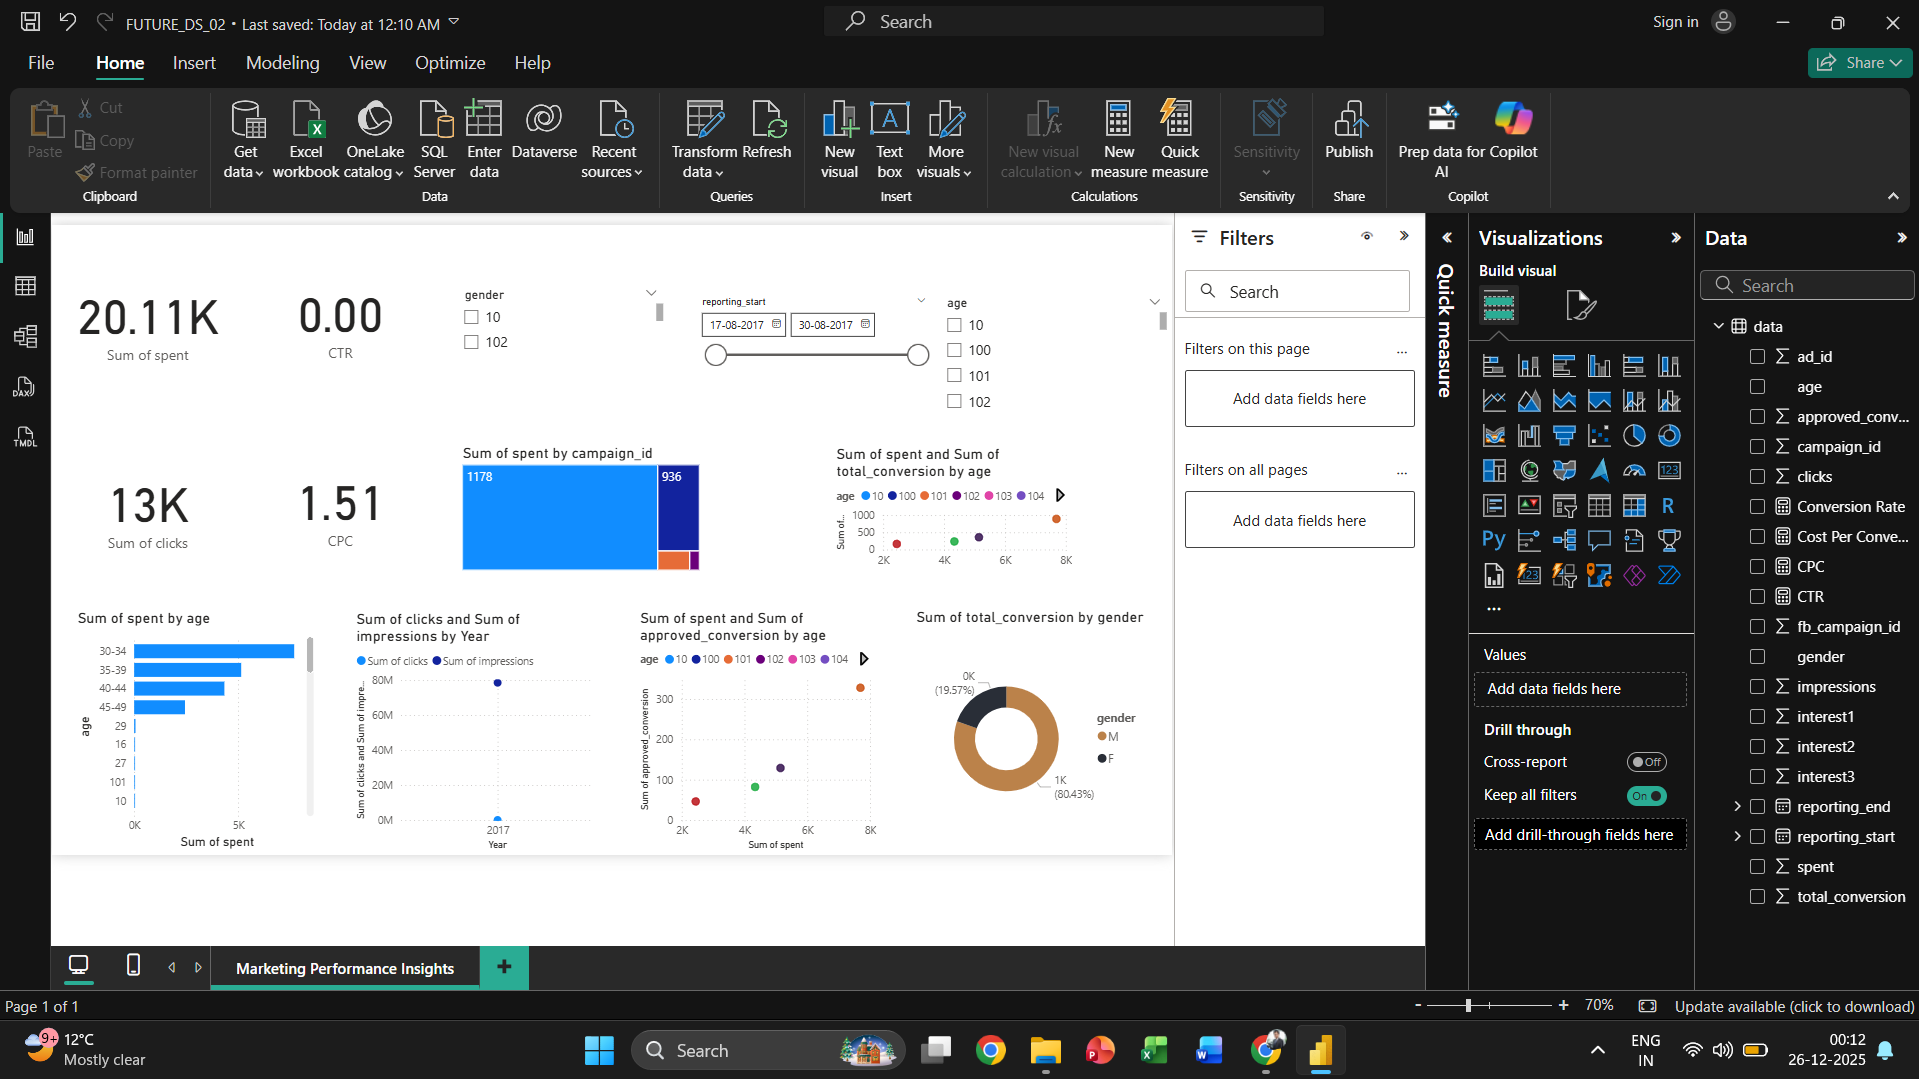

Layout of this report page (visuals, bound fields, positions):
{"tool":"powerbi","page":{"name":"Marketing Performance Insights","canvas":[1280,720],"ordinal":0},"visuals":[{"type":"card","fields":{"Values":["Sum(data.spent)"]},"box":[0,2.9,219.5,213.8],"z":0},{"type":"scatterChart","fields":{"X":["Sum(data.spent)"],"Y":["Sum(data.total_conversion)"],"Series":["data.age"]},"box":[890.9,250.9,279.4,149.7],"z":1000},{"type":"card","fields":{"Values":["data.CTR"]},"box":[219.5,0,219.5,213.8],"z":2000},{"type":"card","fields":{"Values":["data.CPC"]},"box":[219.5,213.8,219.5,216.7],"z":3000},{"type":"card","fields":{"Values":["Sum(data.clicks)"]},"box":[0,216.7,219.5,213.8],"z":4000},{"type":"clusteredBarChart","fields":{"Category":["data.age"],"Y":["Sum(data.spent)"]},"box":[24.3,438.6,280,280],"z":5000},{"type":"donutChart","fields":{"Category":["data.gender"],"Y":["Sum(data.total_conversion)"]},"box":[982.9,437.1,280,281.4],"z":6000},{"type":"lineChart","fields":{"Category":["data.reporting_start.Variation.Date Hierarchy.Year","data.reporting_start.Variation.Date Hierarchy.Quarter","data.reporting_start.Variation.Date Hierarchy.Month","data.reporting_start.Variation.Date Hierarchy.Day"],"Y":["Sum(data.clicks)","Sum(data.impressions)"]},"box":[342.9,440,281.4,280],"z":7000},{"type":"scatterChart","fields":{"X":["Sum(data.spent)"],"Y":["Sum(data.approved_conversion)"],"Series":["data.age"]},"box":[667.1,438.6,280,281.4],"z":8000},{"type":"treemap","fields":{"Values":["Sum(data.spent)"],"Group":["data.campaign_id"]},"box":[464.7,249.4,280.8,149.7],"z":9000},{"type":"slicer","fields":{"Values":["data.age"]},"box":[1010.6,75.5,269.4,149.7],"z":10000},{"type":"slicer","fields":{"Values":["data.gender"]},"box":[459,65.6,245.2,84.1],"z":11000},{"type":"slicer","fields":{"Values":["data.reporting_start"]},"box":[729.8,75.5,280.8,118.3],"z":12000}]}

Visuals, with their boxes on the page's 1280x720 design canvas (x1, y1, x2, y2). These are canvas units, not pixel positions in the 1919x1079 screenshot, which may show the page scaled, cropped or inside an application window:
card - Sum(data.spent): [0,3,220,217]
scatterChart - Sum(data.spent) x Sum(data.total_conversion): [891,251,1170,401]
card - data.CTR: [220,0,439,214]
card - data.CPC: [220,214,439,430]
card - Sum(data.clicks): [0,217,220,430]
clusteredBarChart - data.age x Sum(data.spent): [24,439,304,719]
donutChart - data.gender x Sum(data.total_conversion): [983,437,1263,718]
lineChart - data.reporting_start.Variation.Date Hierarchy.Year x data.reporting_start.Variation.Date Hierarchy.Quarter: [343,440,624,720]
scatterChart - Sum(data.spent) x Sum(data.approved_conversion): [667,439,947,720]
treemap - Sum(data.spent) x data.campaign_id: [465,249,746,399]
slicer - data.age: [1011,76,1280,225]
slicer - data.gender: [459,66,704,150]
slicer - data.reporting_start: [730,76,1011,194]
